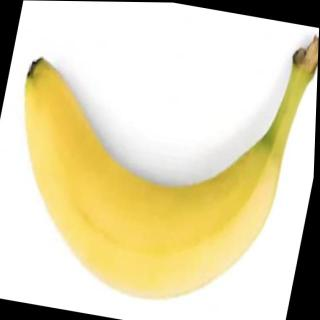banana: (0, 50, 298, 320)
